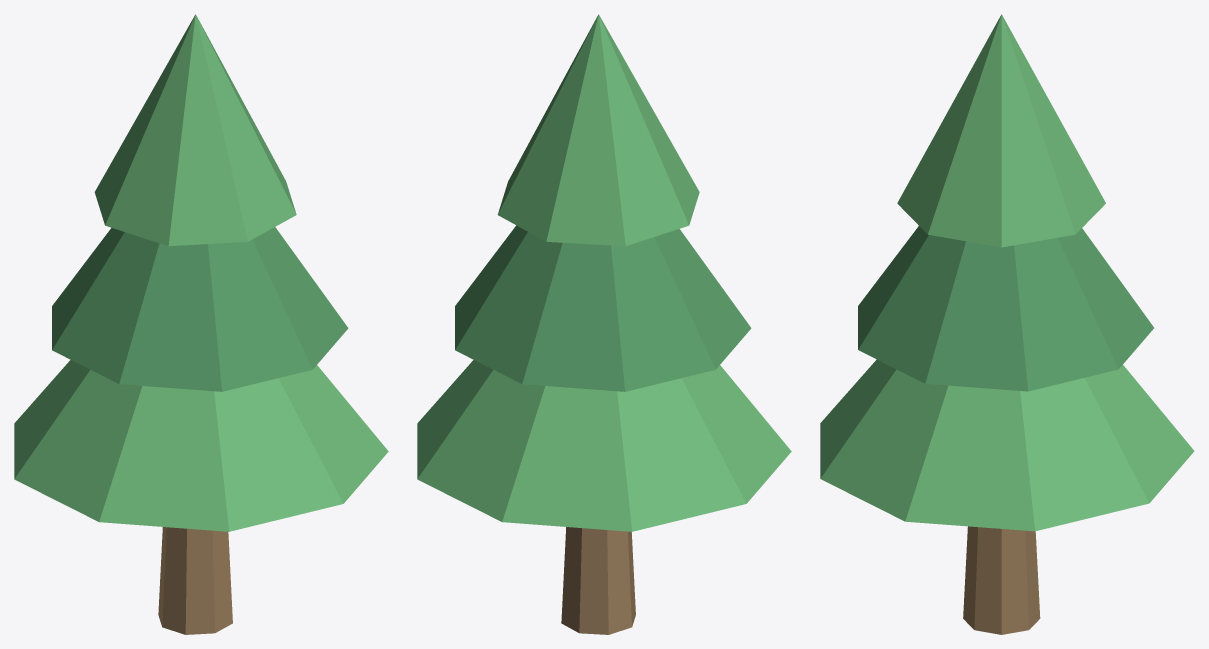
Rendered from pine_tree.glb.
The picture shows the model from 3 angles, left to right: view 1: azimuth 30°, elevation 25°; view 2: azimuth 150°, elevation 25°; view 3: azimuth 270°, elevation 25°; orthographic projection.
Visible parts, largest first — view 1: TreeFoliageA, TreeFoliageB, TreeFoliageC, TreeTrunk; view 2: TreeFoliageA, TreeFoliageB, TreeFoliageC, TreeTrunk; view 3: TreeFoliageA, TreeFoliageB, TreeFoliageC, TreeTrunk.
Boxes of the visible parts, x1,y1,x2,y2 form: TreeFoliageA: (14,360,388,531); TreeFoliageB: (52,227,348,391); TreeFoliageC: (94,14,296,246); TreeTrunk: (158,527,232,634); TreeFoliageA: (417,360,791,531); TreeFoliageB: (455,225,751,391); TreeFoliageC: (497,14,699,246); TreeTrunk: (561,527,635,634); TreeFoliageA: (820,359,1194,531); TreeFoliageB: (858,226,1153,391); TreeFoliageC: (897,14,1105,247); TreeTrunk: (963,526,1040,634).
Bounding box in the file's own units: 2.36 × 4.15 × 2.33.
